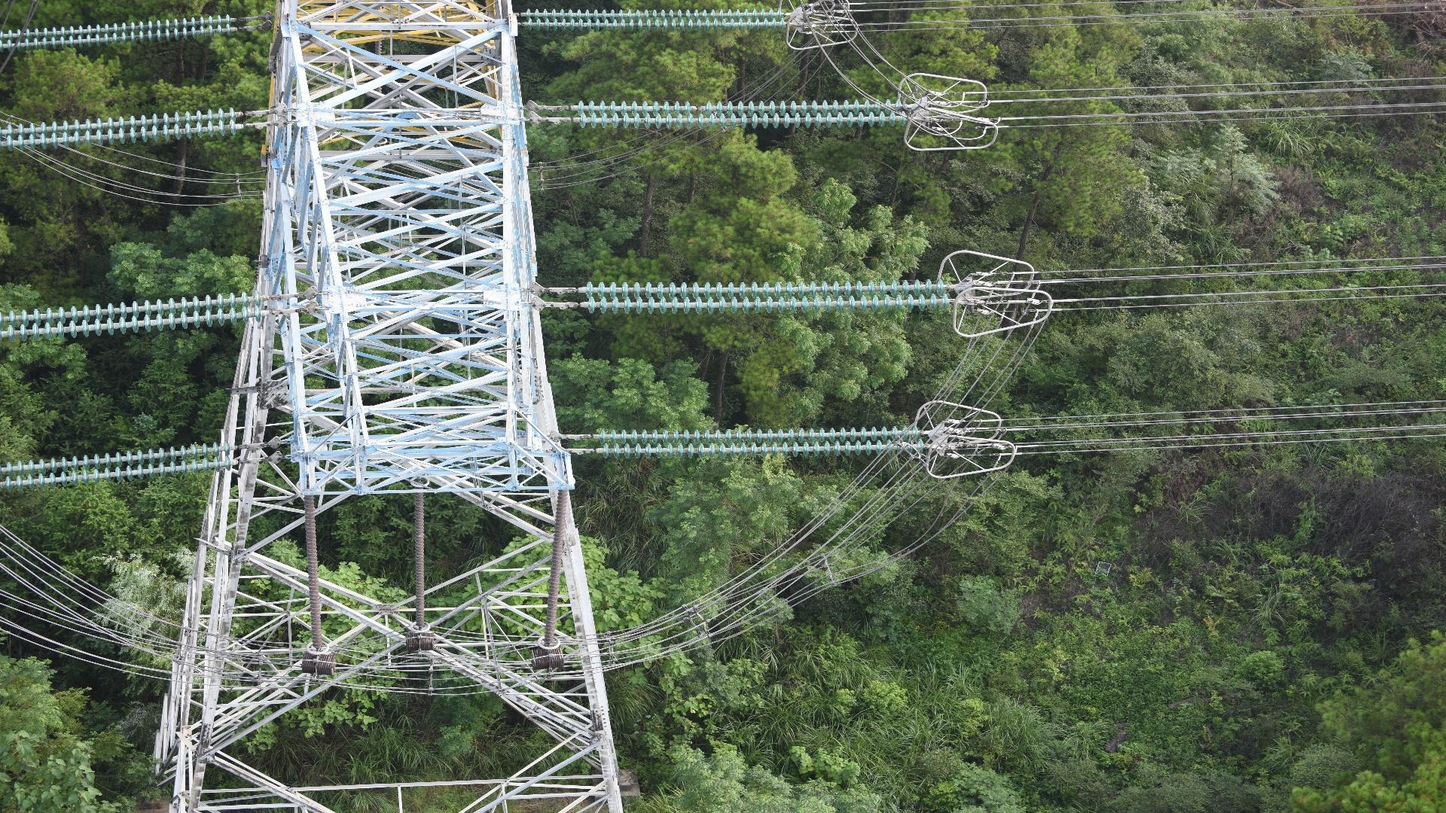insulator: (1, 288, 263, 343), (584, 277, 951, 316), (596, 422, 926, 461), (1, 439, 233, 492), (1, 105, 237, 154), (575, 96, 910, 130), (1, 12, 233, 53), (520, 6, 788, 33), (541, 488, 569, 644), (302, 494, 325, 650), (413, 486, 428, 629)
